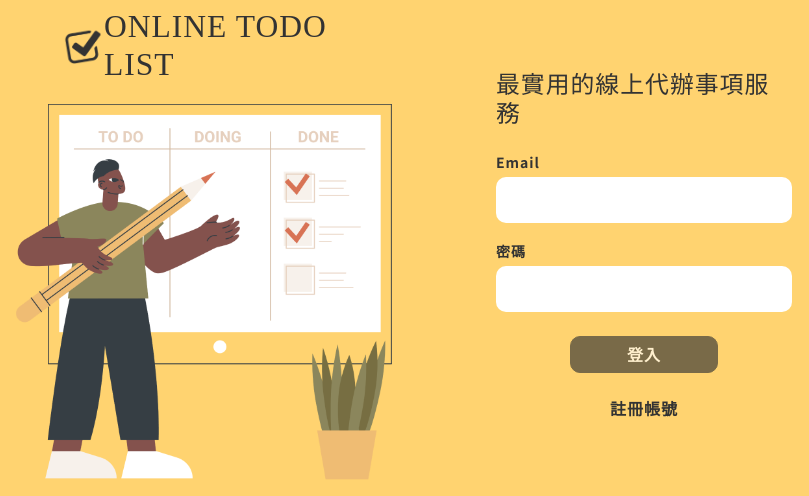
Login Page › Interactions › 當重新輸入密碼後，清除錯誤訊息
Type "hsuifang@gmail.com" into the field labelled "Email" at (644, 200), box 496,177 -> 792,223
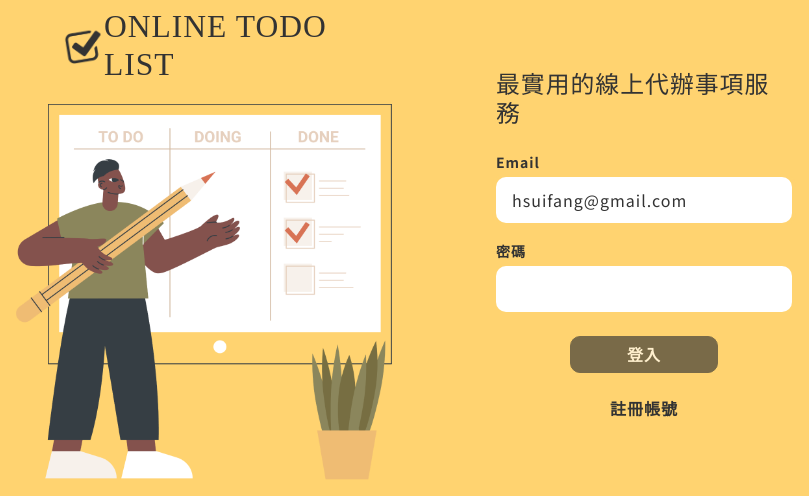
Type "asdfasdf123456" into the password field labelled "密碼" at (644, 289), box 496,266 -> 792,312
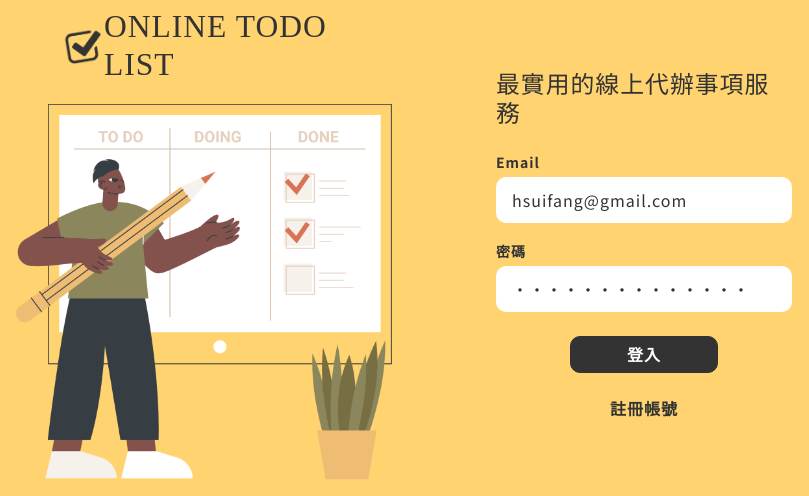
Click the button "登入" at (644, 354), box 570,336 -> 718,373
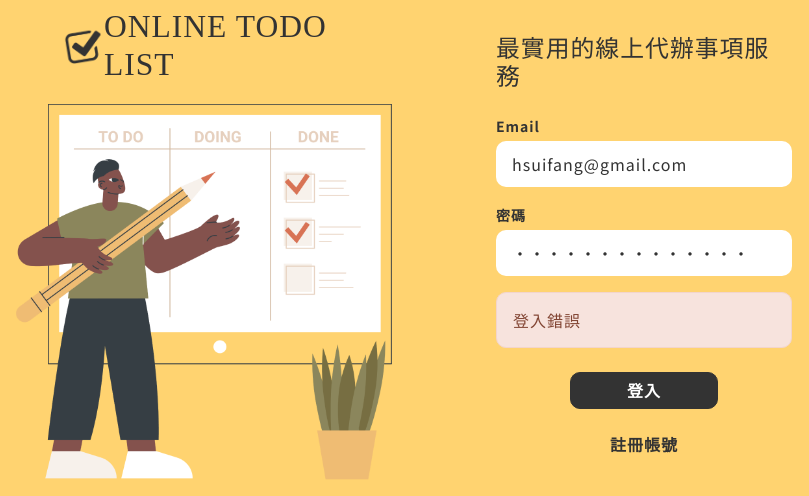
expect the text "登入錯誤" is shown: met, box 513,308 -> 581,332
Type "aasdf" into the password field labelled "密碼" at (644, 253), box 496,230 -> 792,276
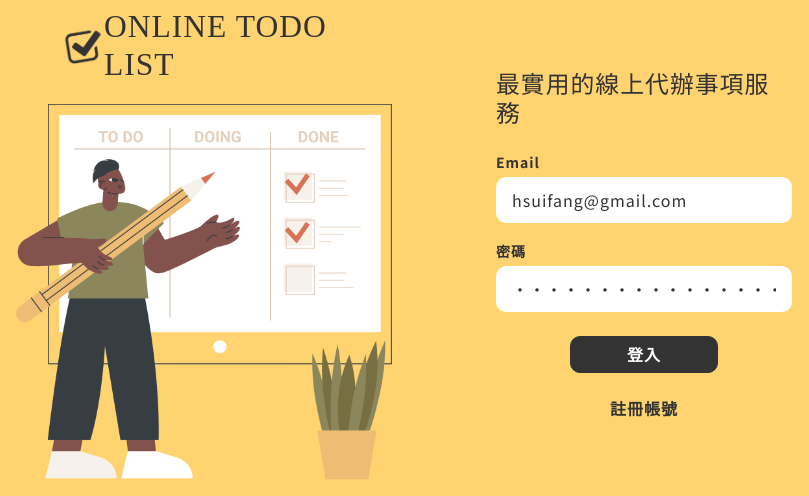
expect the text "登入錯誤" is gone: met
